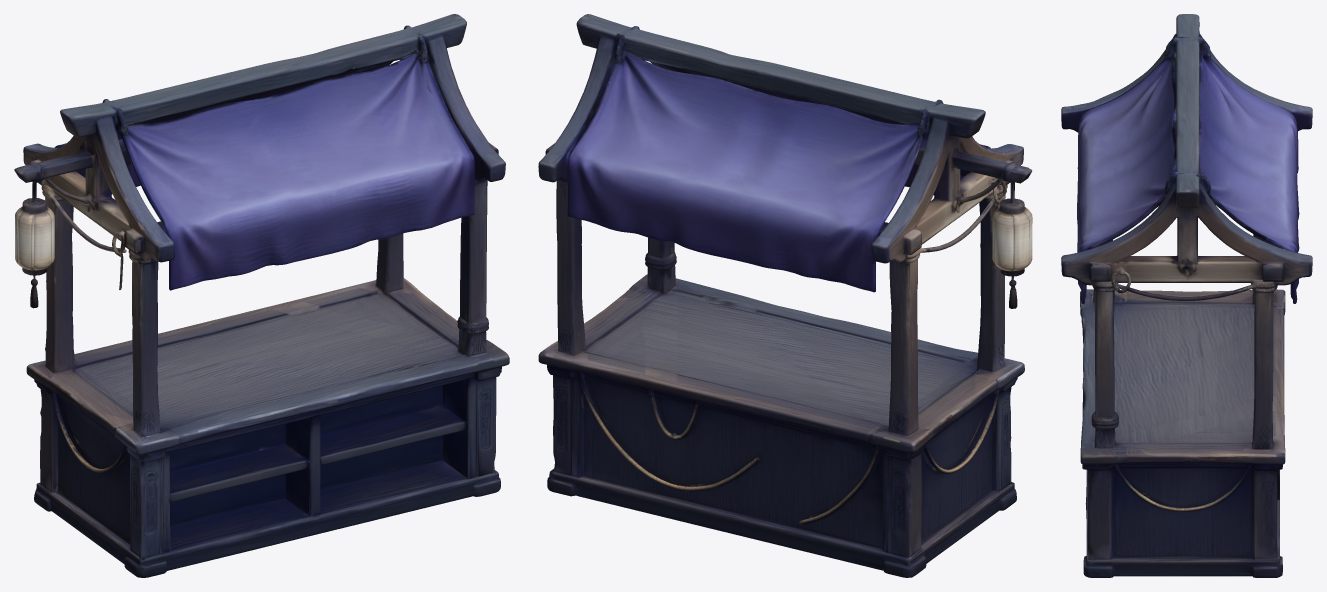
Rendered from stall.glb.
The picture shows the model from 3 angles, left to right: view 1: azimuth 30°, elevation 25°; view 2: azimuth 150°, elevation 25°; view 3: azimuth 270°, elevation 25°; orthographic projection. The views are drawn at different scales.
Visible parts, largest first — view 1: node_0; view 2: node_0; view 3: node_0.
Part boxes in pixels (left/top/right/bottom): node_0: left=14, top=14, right=509, bottom=577; node_0: left=538, top=14, right=1032, bottom=577; node_0: left=1061, top=14, right=1312, bottom=577.
Bounding box in the file's own units: 0.8755 × 0.807 × 0.4667.
Materials: 1 (1 with a texture image).
